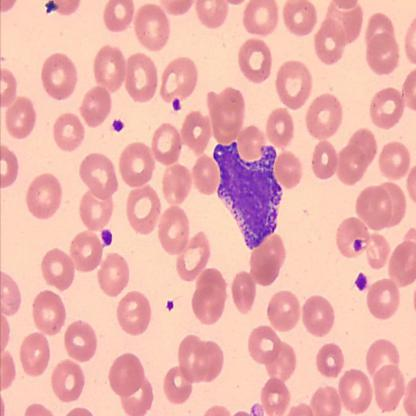Myelocyte: (214, 142, 282, 244)
